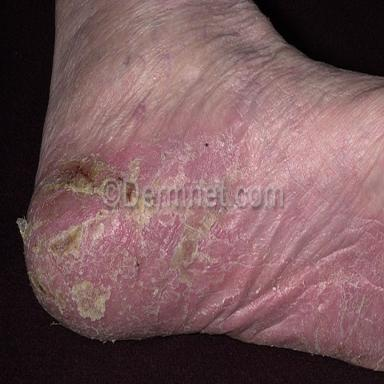eczema: (18, 135, 384, 370)
